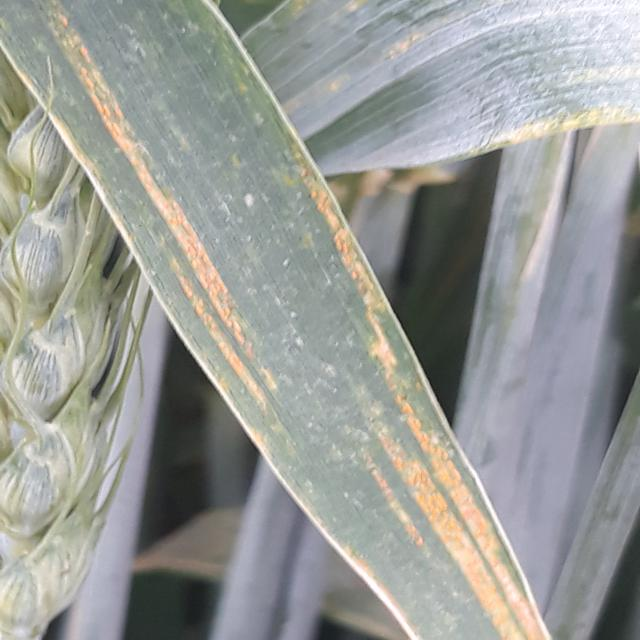yellow_rust: (2, 9, 533, 640), (324, 1, 640, 172)
